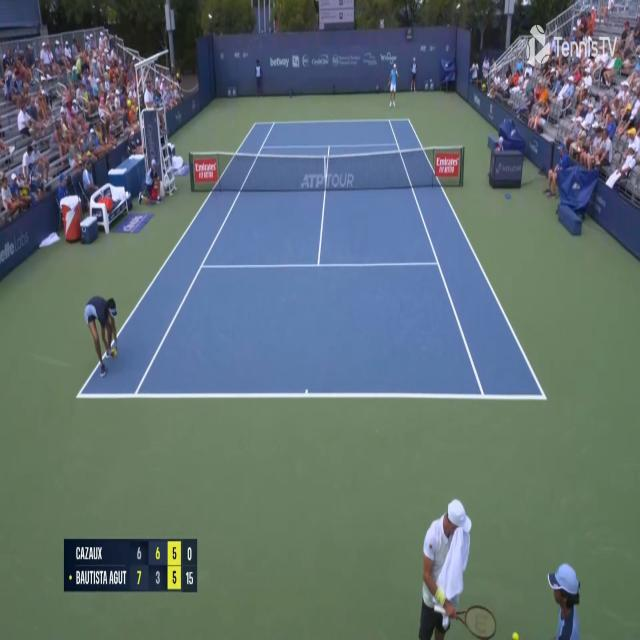tennis-player: (414, 492, 492, 639), (388, 60, 398, 108)
